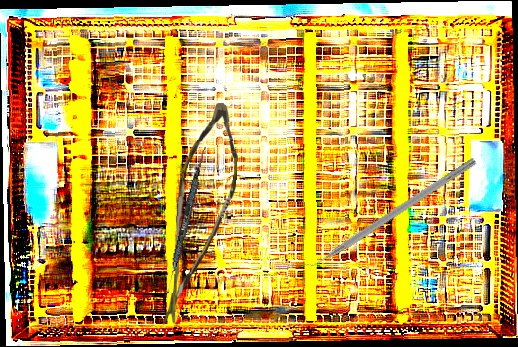Chopper: (293, 148, 478, 277)
Micro Scissor: (162, 100, 241, 334)
Spatula Surgical: (162, 145, 208, 302)
